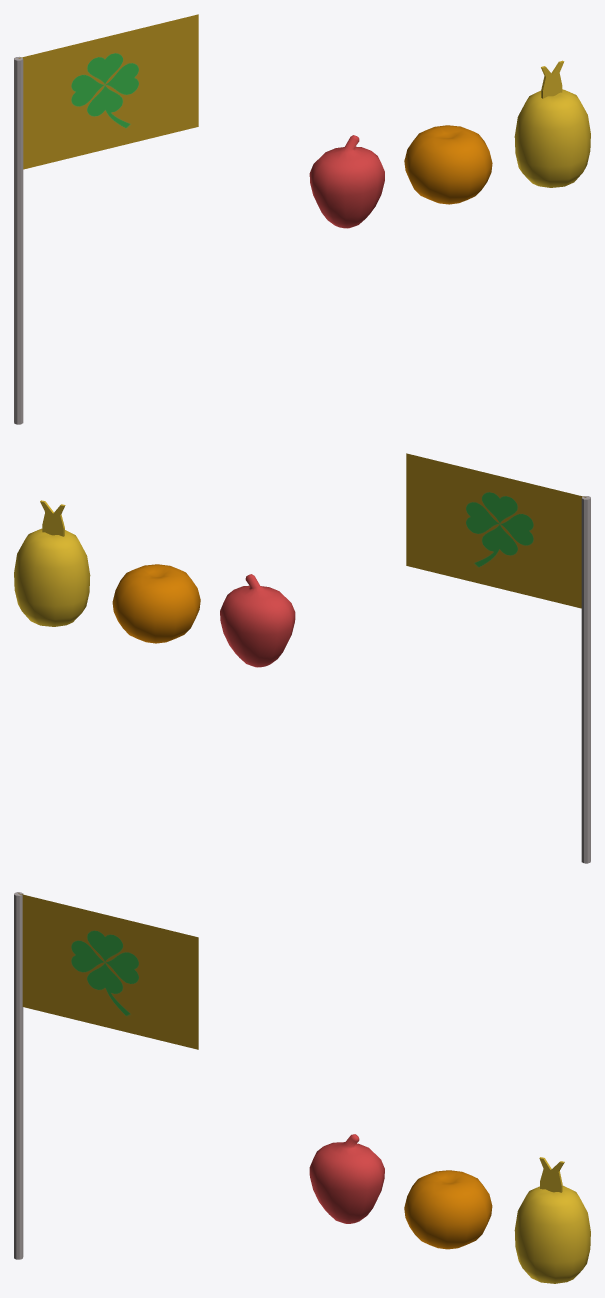
File: Flag.FBX
The picture shows the model from 3 angles, top to bottom: view 1: azimuth 30°, elevation 25°; view 2: azimuth 150°, elevation 25°; view 3: azimuth 330°, elevation 25°; orthographic projection.
Visible parts, largest first — view 1: flag, Nanas, Jeruk, Strawberry; view 2: flag, Nanas, Jeruk, Strawberry; view 3: flag, Nanas, Jeruk, Strawberry.
Part boxes in pixels (bbox=[...]): flag: bbox=[14, 14, 198, 424]; Nanas: bbox=[514, 60, 590, 187]; Jeruk: bbox=[404, 125, 492, 204]; Strawberry: bbox=[309, 135, 384, 228]; flag: bbox=[406, 453, 590, 863]; Nanas: bbox=[14, 500, 90, 626]; Jeruk: bbox=[112, 564, 200, 643]; Strawberry: bbox=[220, 574, 295, 667]; flag: bbox=[14, 892, 198, 1259]; Nanas: bbox=[514, 1157, 590, 1283]; Jeruk: bbox=[404, 1170, 492, 1249]; Strawberry: bbox=[309, 1134, 384, 1223].
Bounding box in the file's own units: 27.79 × 16.93 × 3.75.
1 material, 1 textured.
